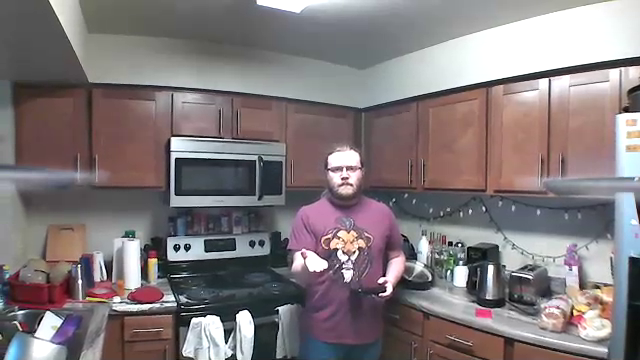land: (302, 247, 330, 273)
